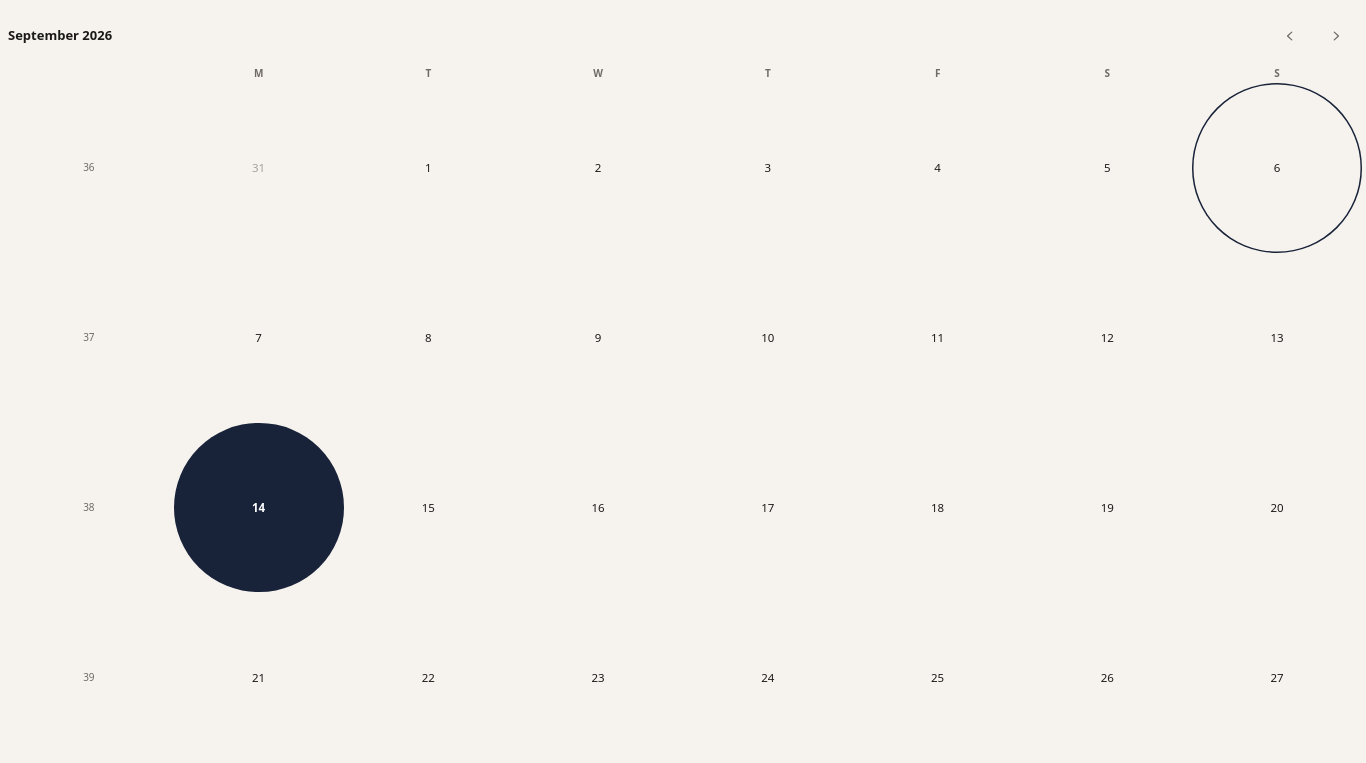
it: MiniMonth › walks a month at a time without moving the anchor
Click the button named "Next month" at x=1336, y=36, box [1314,14,1358,58]
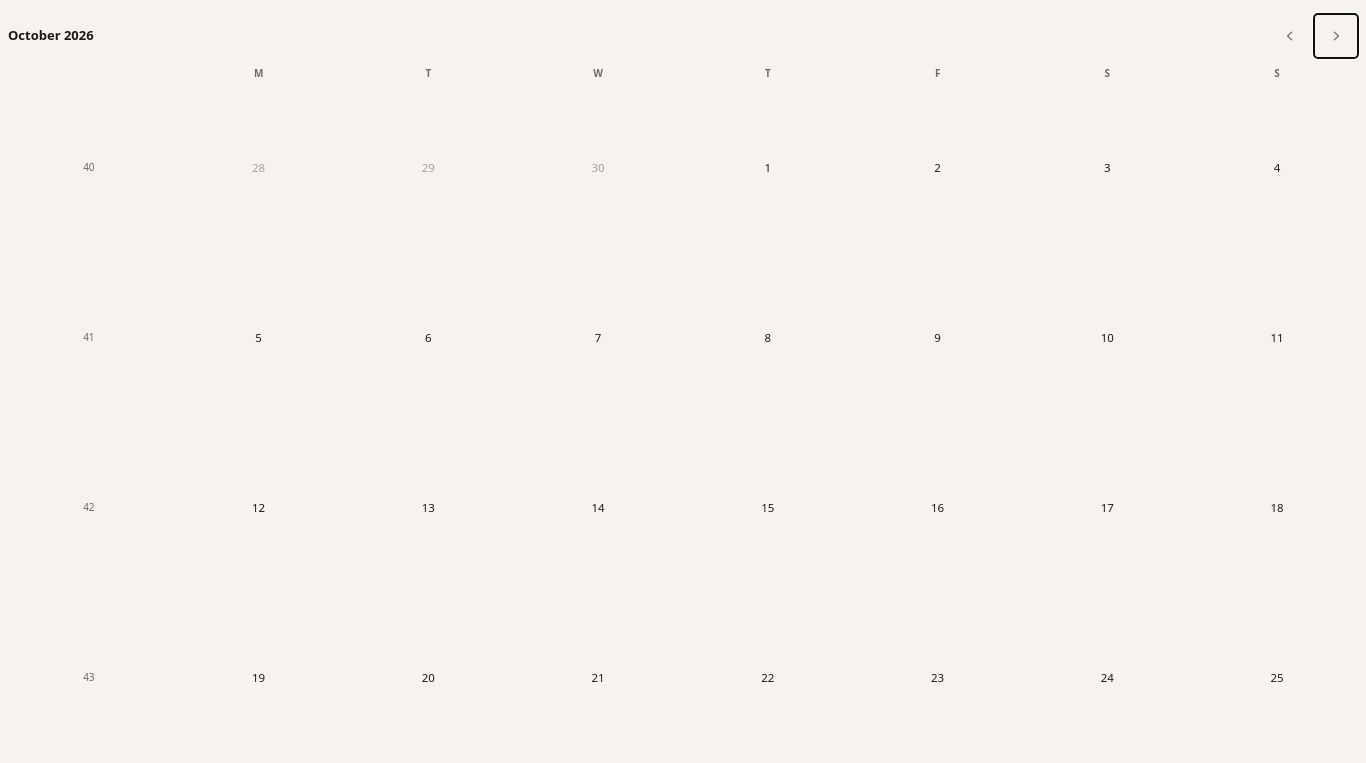
Expected: the text with class "mini-month-title" reads "October 2026", [8,26,94,44]
